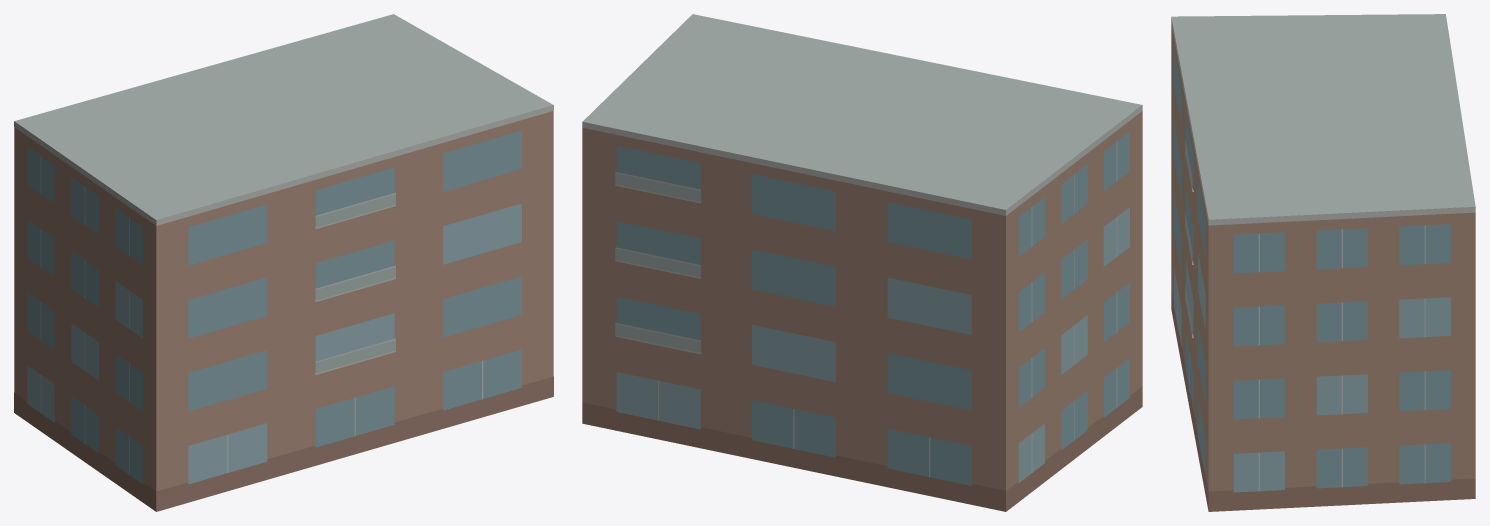
The model's file is survey-upis-32757058.glb.
3 renders of one model, left to right at view 1: azimuth 30°, elevation 25°; view 2: azimuth 150°, elevation 25°; view 3: azimuth 270°, elevation 25°, orthographic. The views are drawn at different scales.
Parts seen in each view (by area): view 1: survey-upis-32757058.tmp; view 2: survey-upis-32757058.tmp; view 3: survey-upis-32757058.tmp.
Part boxes in pixels (x1,y1,x2,y2): survey-upis-32757058.tmp: [14, 14, 553, 511]; survey-upis-32757058.tmp: [582, 14, 1142, 511]; survey-upis-32757058.tmp: [1171, 14, 1475, 511].
Size of the model in its own units: 18.67 by 12.35 by 11.67.
